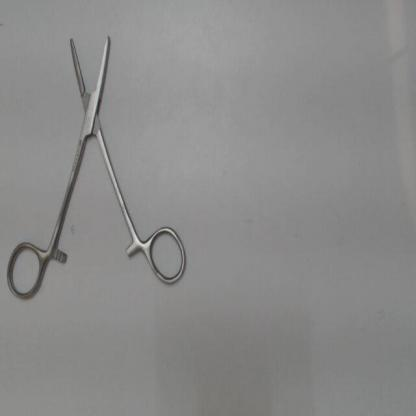Mayo Needle Holder: (0, 16, 194, 306)
